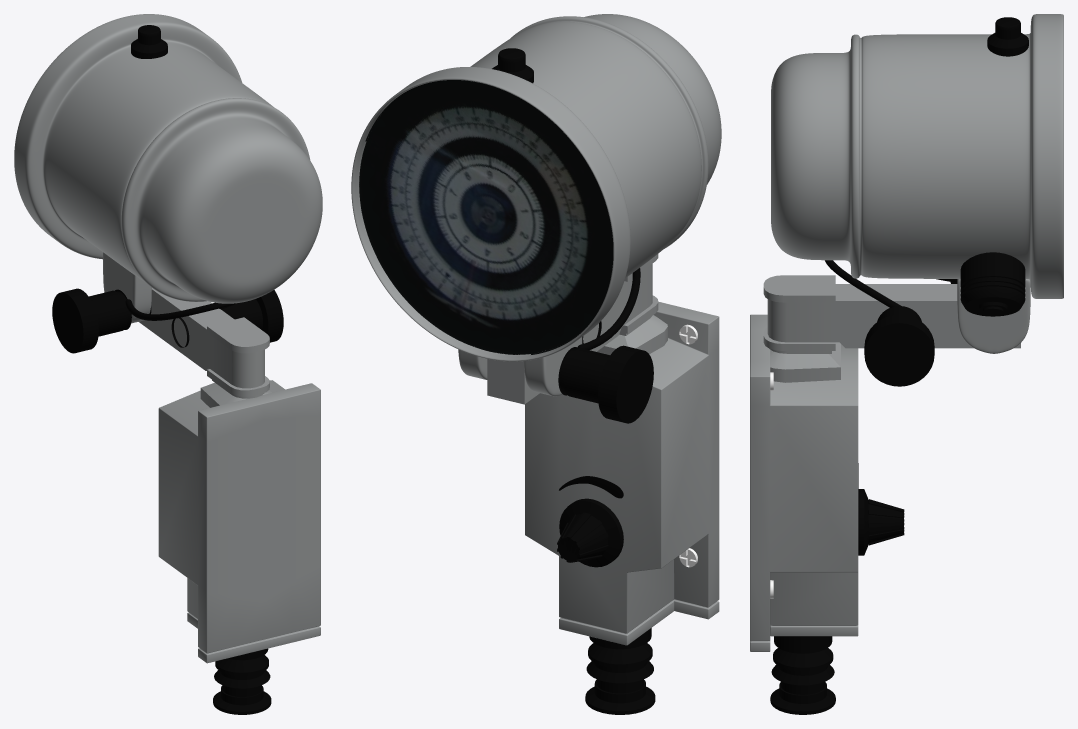
Rendered from pribor 38H.fbx.
The picture shows the model from 3 angles, left to right: view 1: azimuth 30°, elevation 25°; view 2: azimuth 150°, elevation 25°; view 3: azimuth 270°, elevation 25°; orthographic projection. The views are drawn at different scales.
Parts seen in each view (by area): view 1: BezierCurve; view 2: BezierCurve; view 3: BezierCurve.
Boxes of the visible parts, left/top/right/bottom form: BezierCurve: left=14, top=14, right=322, bottom=714; BezierCurve: left=351, top=14, right=721, bottom=714; BezierCurve: left=750, top=14, right=1063, bottom=714.
Size of the model in its own units: 23.74 by 62.34 by 26.11.
4 materials, 1 textured.
